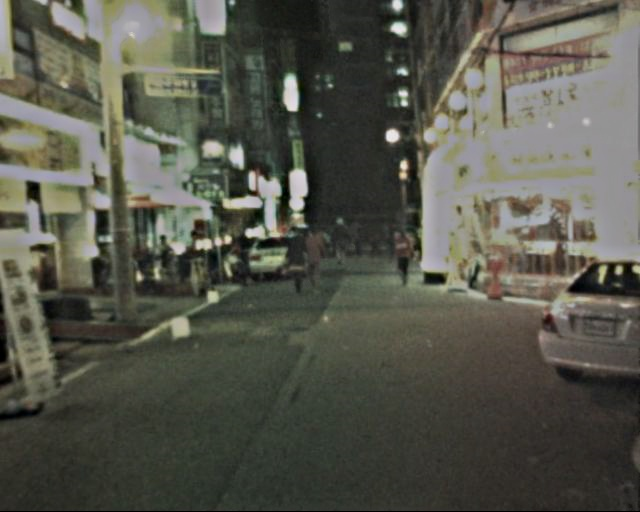person: (279, 226, 310, 298), (297, 223, 326, 296), (391, 224, 419, 287), (324, 214, 350, 268), (348, 222, 366, 260), (368, 230, 392, 255)
